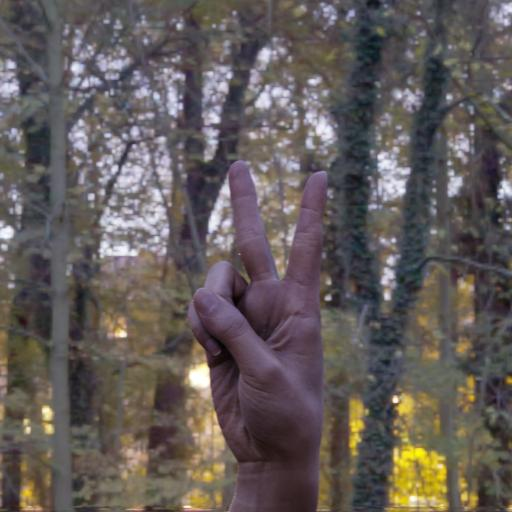V: (175, 151, 374, 482)
